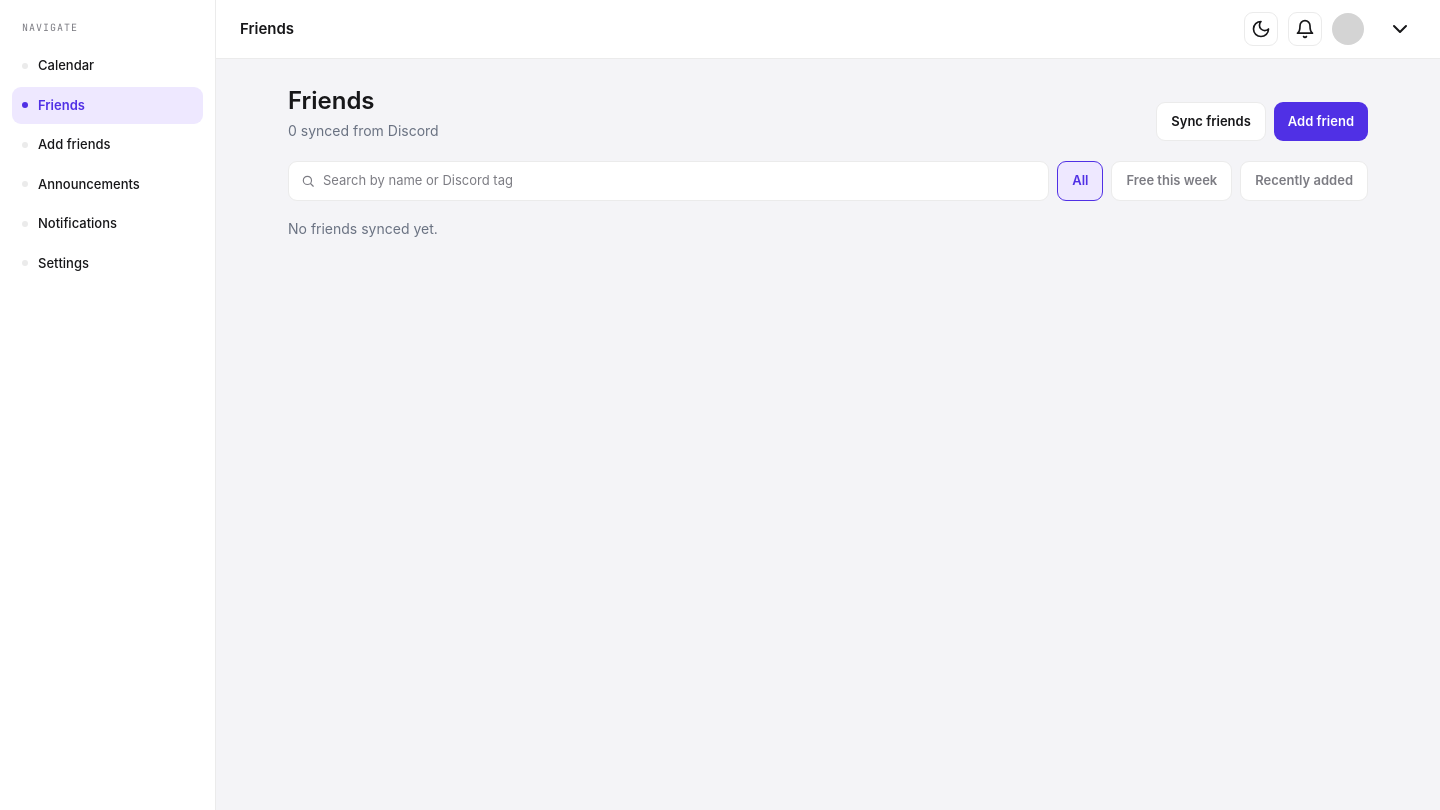
Test: friends directory page › re-syncs friends when "Sync friends" is clicked
The image size is (1440, 810).
expect the text "No friends synced yet." is shown: met, box [288,220,438,236]
What coordinates should you click on to do the following:
click the button "Sync friends"
I would click on:
 (1211, 121)
Its box is [1156,102,1266,141].
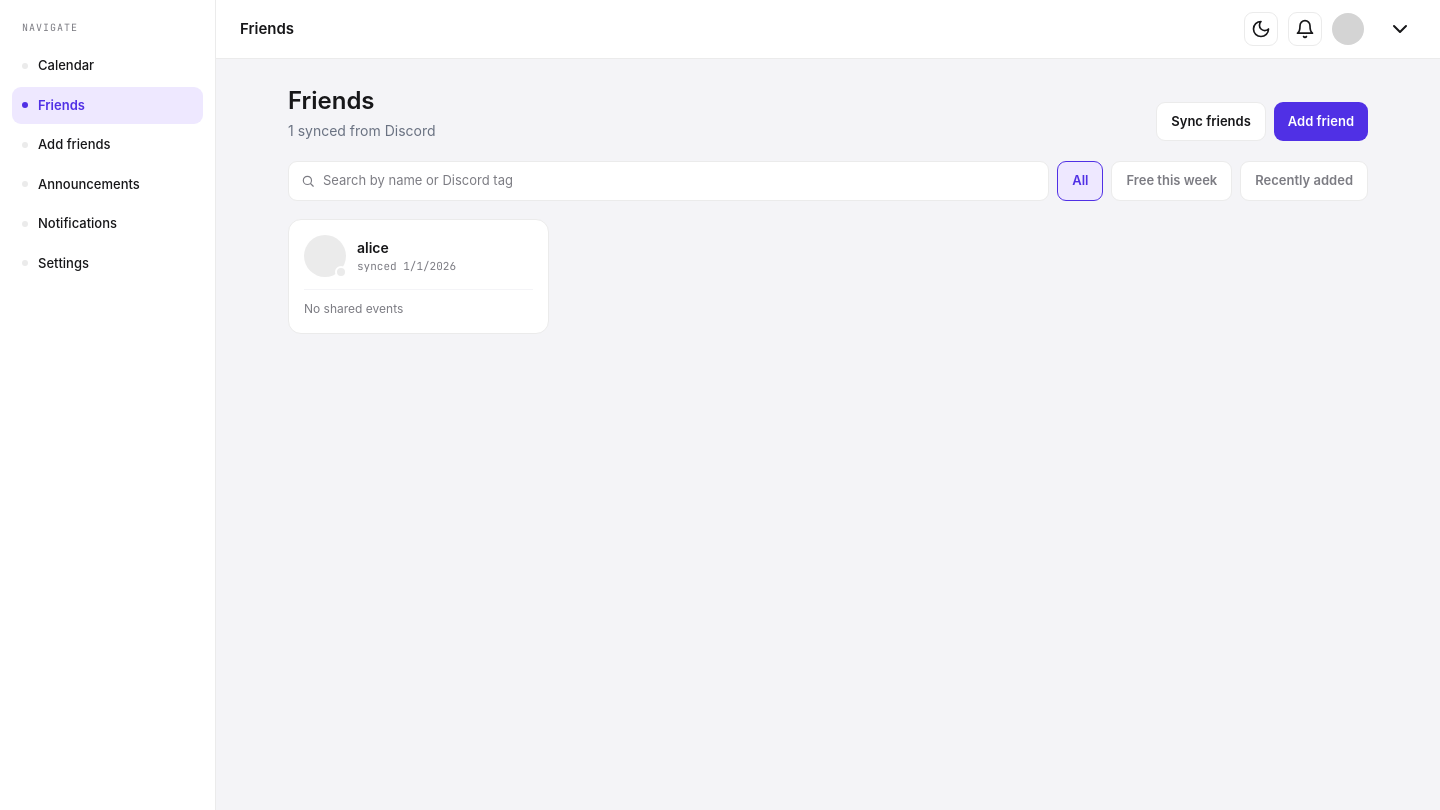
expect the text "alice" is shown: met, box [357,239,389,256]
